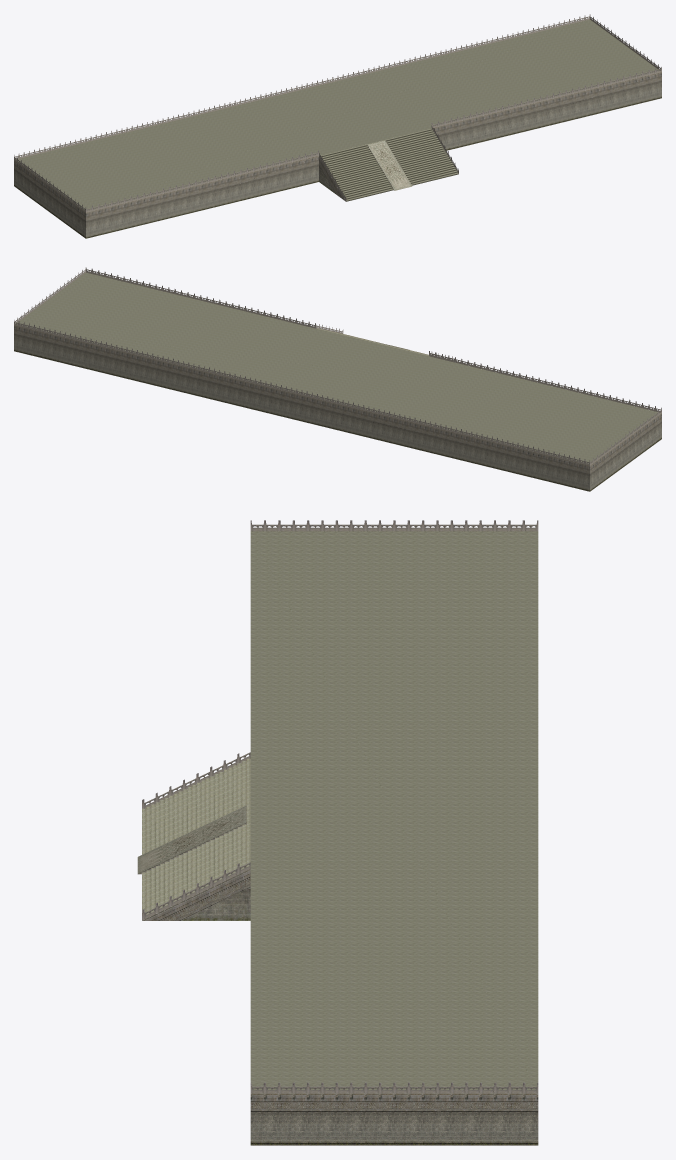
The model's file is cj_pal_main_dan.glb.
3 renders of one model, top to bottom at view 1: azimuth 30°, elevation 25°; view 2: azimuth 150°, elevation 25°; view 3: azimuth 270°, elevation 25°, orthographic. The views are drawn at different scales.
Visible parts, largest first — view 1: CJ_pal_main_dan_floor01, CJ_pal_main_dan_wall, CJ_pal_main_dan_wall_al, CJ_pal_main_dan_floor02, CJ_pal_main_dan_dragon; view 2: CJ_pal_main_dan_floor01, CJ_pal_main_dan_wall, CJ_pal_main_dan_wall_al; view 3: CJ_pal_main_dan_floor01, CJ_pal_main_dan_wall, CJ_pal_main_dan_floor02, CJ_pal_main_dan_wall_al, CJ_pal_main_dan_dragon.
Part boxes in pixels (box(x1,y1,x2,y2)): CJ_pal_main_dan_floor01: box(16, 19, 659, 210); CJ_pal_main_dan_wall: box(14, 72, 661, 238); CJ_pal_main_dan_wall_al: box(14, 14, 661, 212); CJ_pal_main_dan_floor02: box(320, 128, 458, 201); CJ_pal_main_dan_dragon: box(367, 141, 412, 190); CJ_pal_main_dan_floor01: box(16, 272, 659, 463); CJ_pal_main_dan_wall: box(14, 325, 661, 491); CJ_pal_main_dan_wall_al: box(14, 267, 661, 465); CJ_pal_main_dan_floor01: box(250, 531, 538, 1089); CJ_pal_main_dan_wall: box(138, 822, 538, 1145); CJ_pal_main_dan_floor02: box(142, 758, 250, 914); CJ_pal_main_dan_wall_al: box(142, 520, 538, 1093); CJ_pal_main_dan_dragon: box(137, 805, 246, 873).
Size of the model in its own units: 166 by 8.72 by 50.14.
Materials: 5 (5 with a texture image).
